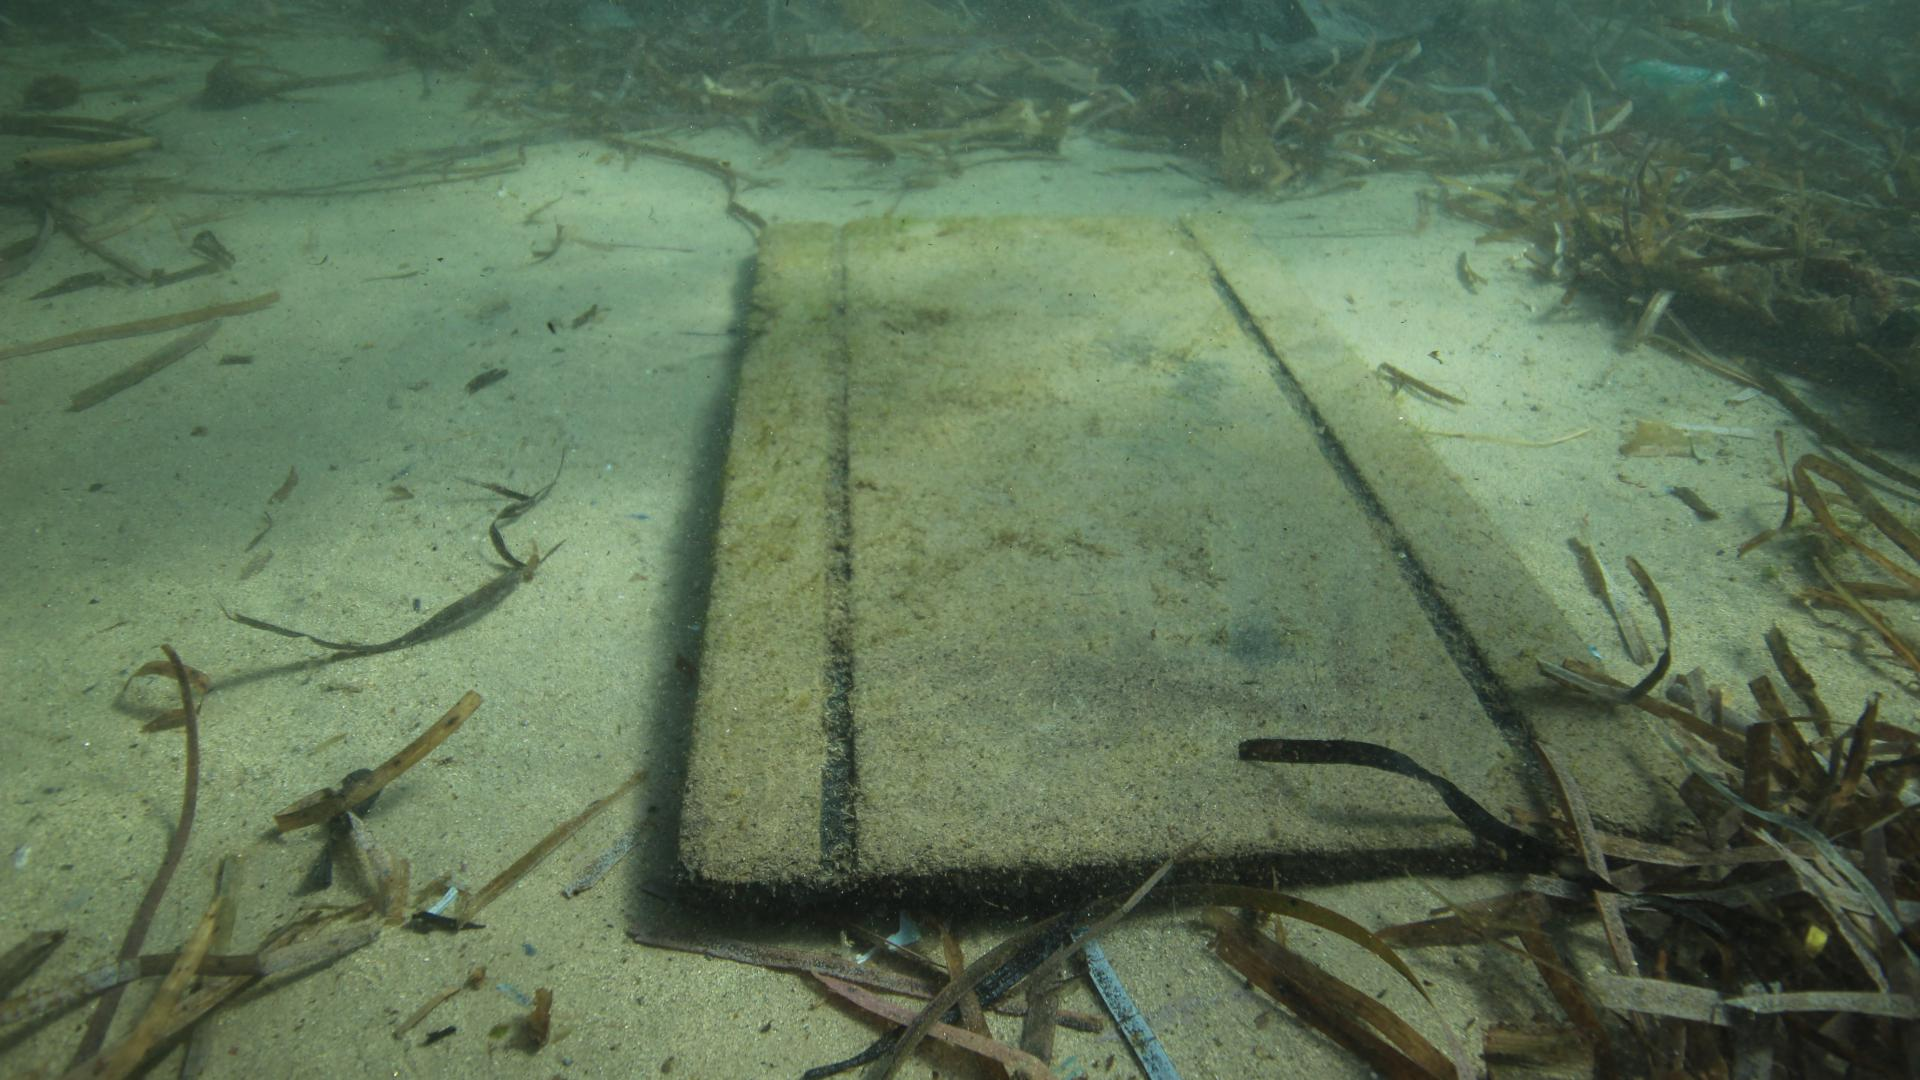wood: (678, 214, 1712, 886)
